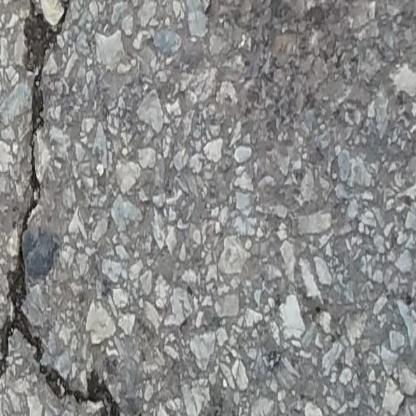Cracks: (0, 0, 164, 416)
